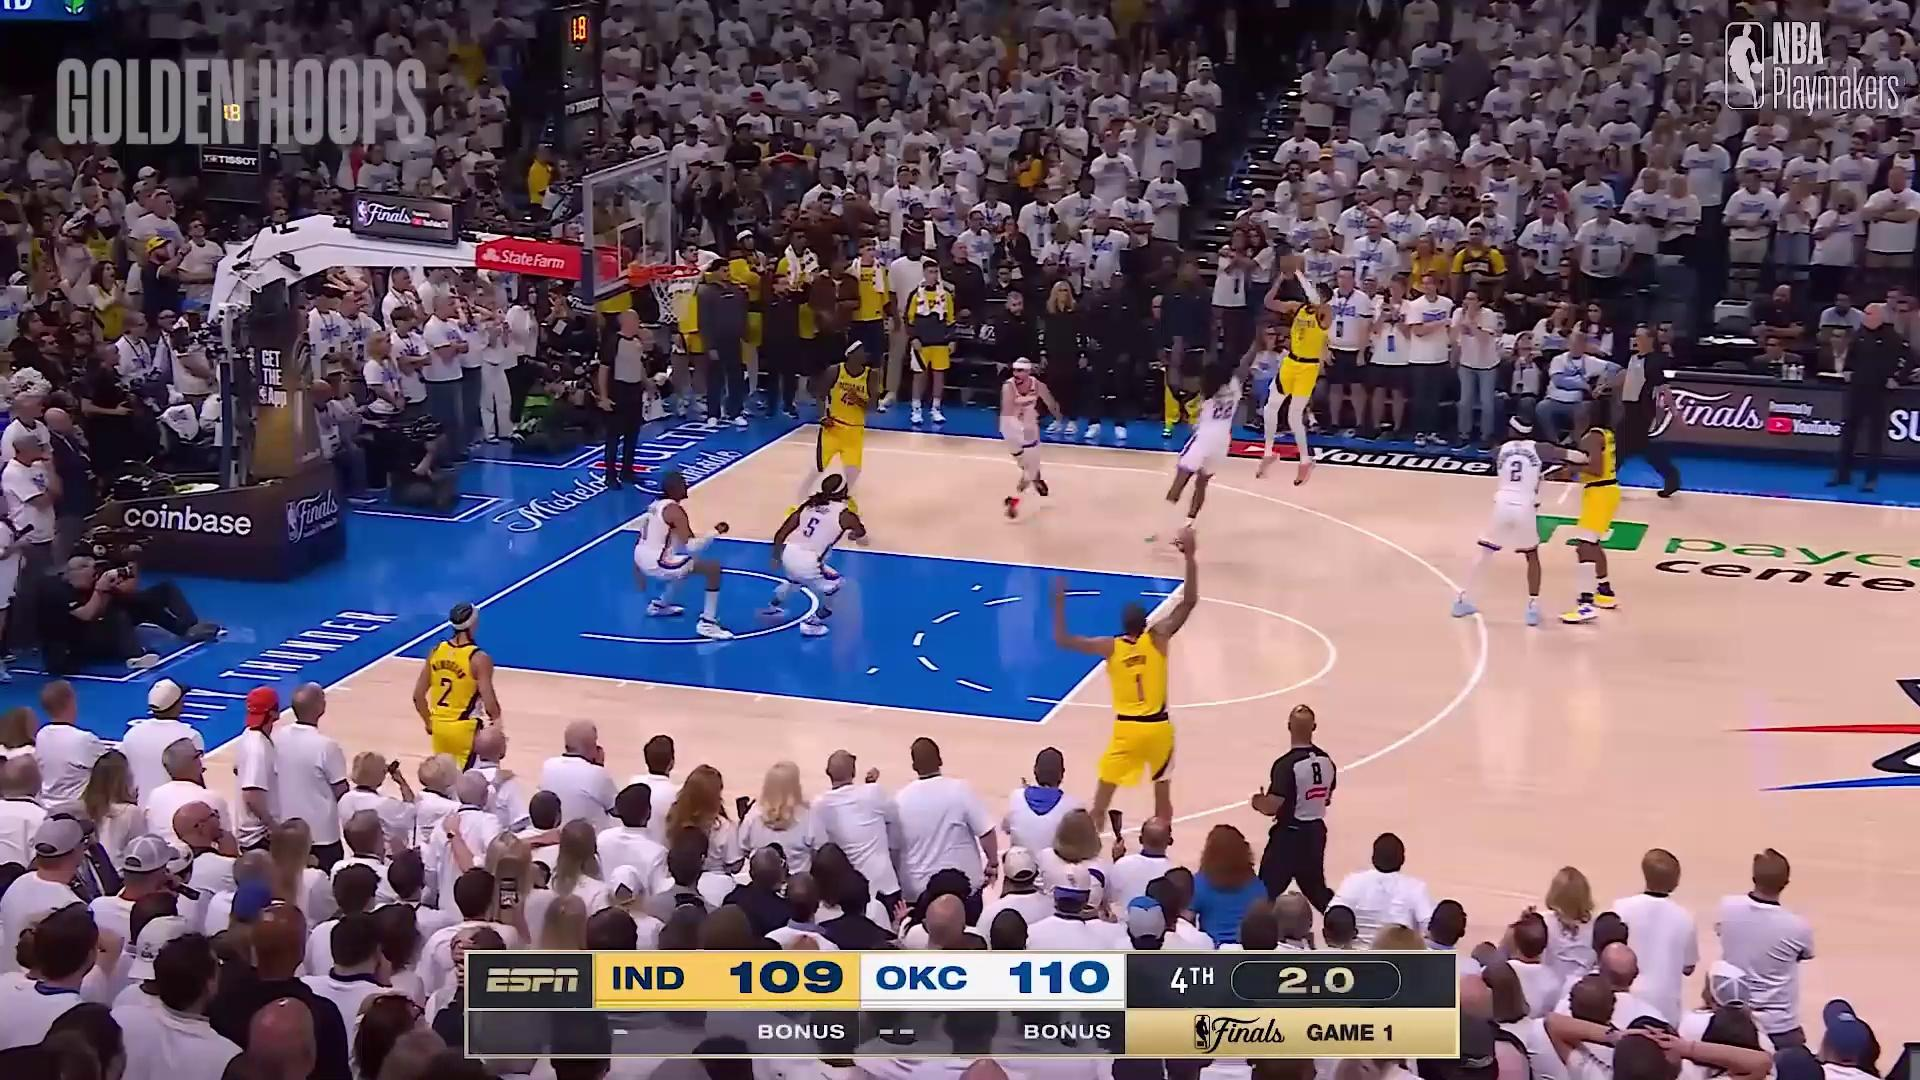ball: (1273, 251, 1307, 284)
hoop: (647, 248, 703, 330)
